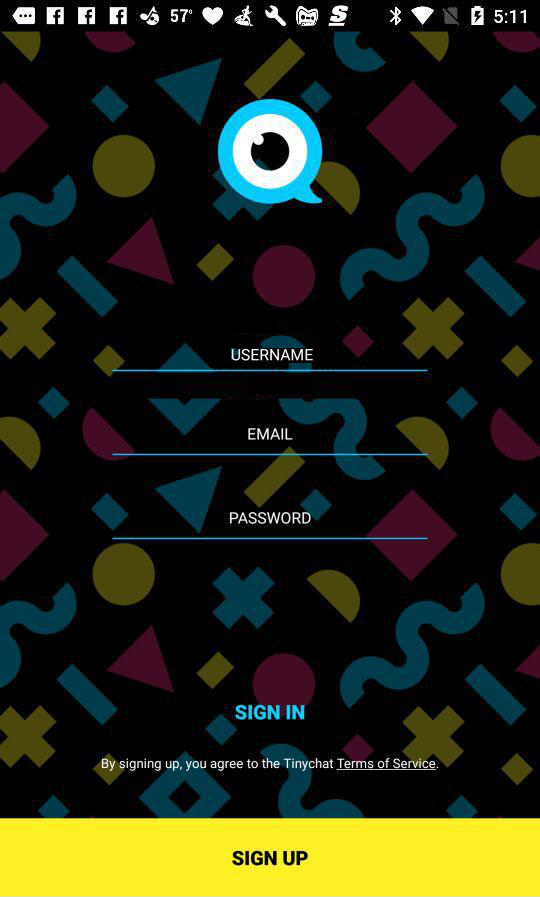BackgroundImage: (1, 32, 540, 818)
EditText: (112, 427, 428, 457), (112, 511, 429, 540), (112, 349, 429, 373)
Image: (218, 99, 323, 206)
Text: (102, 757, 439, 772), (235, 704, 306, 721), (230, 511, 311, 525), (231, 349, 314, 362), (248, 427, 293, 441)
TextButton: (1, 818, 540, 897)
UpperTaskBar: (1, 1, 540, 32)
